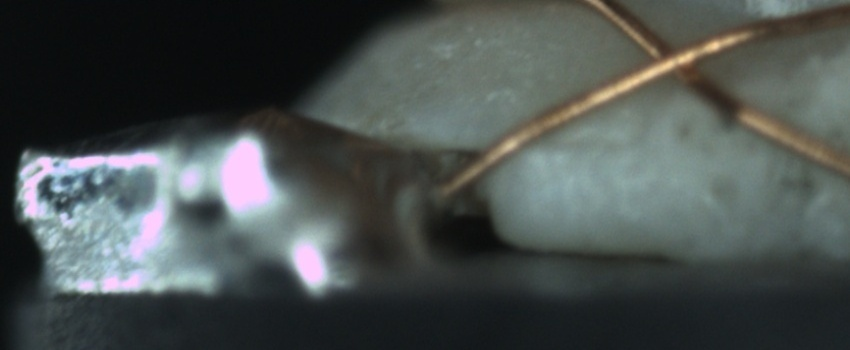CL: (622, 24, 727, 93)
DL: (524, 117, 666, 172)
